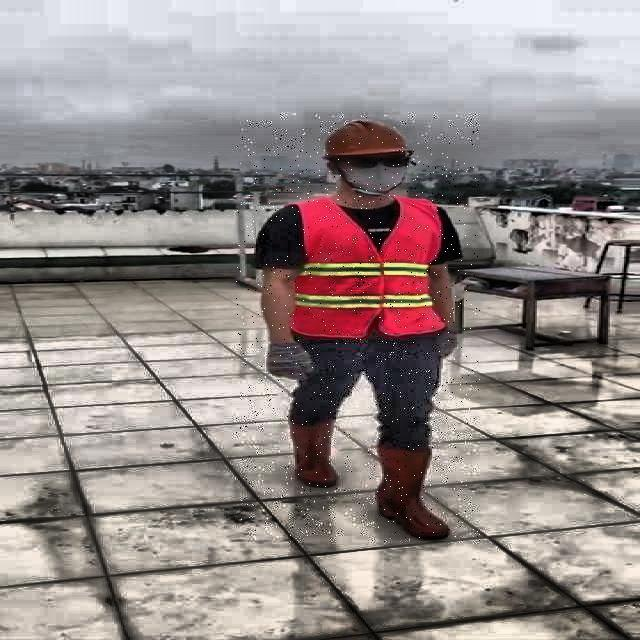safety_helmet: (320, 114, 418, 161)
safety_jacket: (286, 197, 455, 336)
